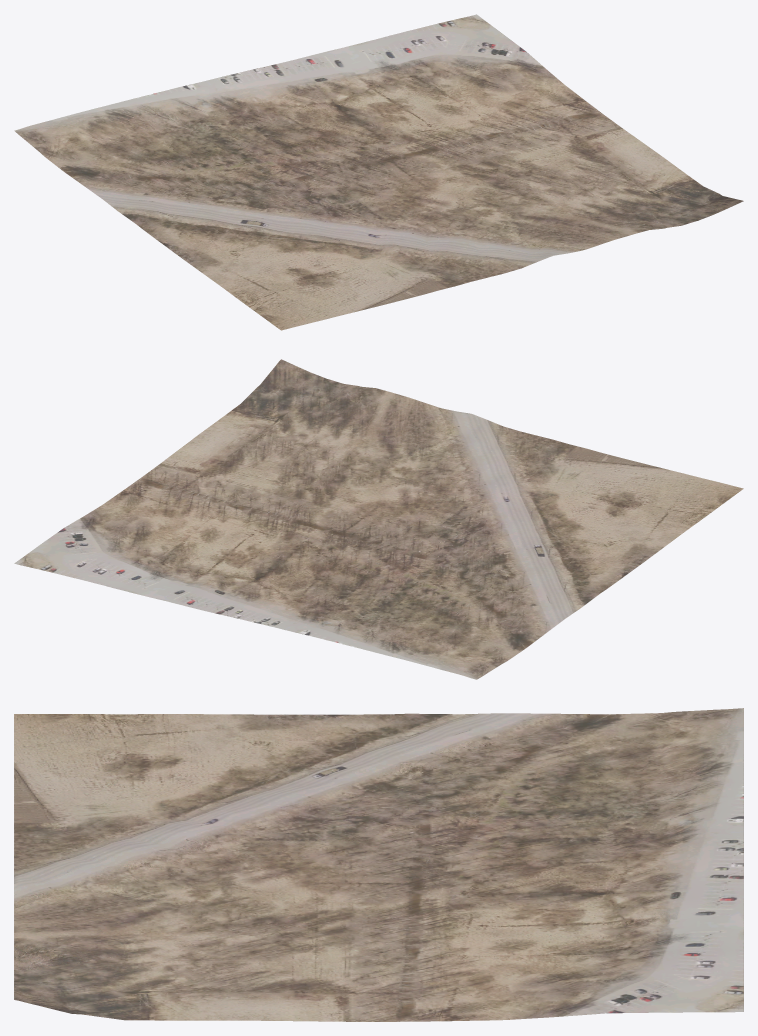
The model's file is CM_Terrain_24493121_6817336.fbx.
The picture shows the model from 3 angles, top to bottom: view 1: azimuth 30°, elevation 25°; view 2: azimuth 150°, elevation 25°; view 3: azimuth 270°, elevation 25°; orthographic projection. The views are drawn at different scales.
Visible parts, largest first — view 1: CM_Terrain_24493121_6817336_LOD0; view 2: CM_Terrain_24493121_6817336_LOD0; view 3: CM_Terrain_24493121_6817336_LOD0.
Part boxes in pixels (box(x1,y1,x2,y2)): CM_Terrain_24493121_6817336_LOD0: box(14, 14, 743, 330); CM_Terrain_24493121_6817336_LOD0: box(14, 359, 743, 679); CM_Terrain_24493121_6817336_LOD0: box(14, 708, 743, 1021).
Size of what is drawn, in the model's own units: 205 by 7.21 by 205.
